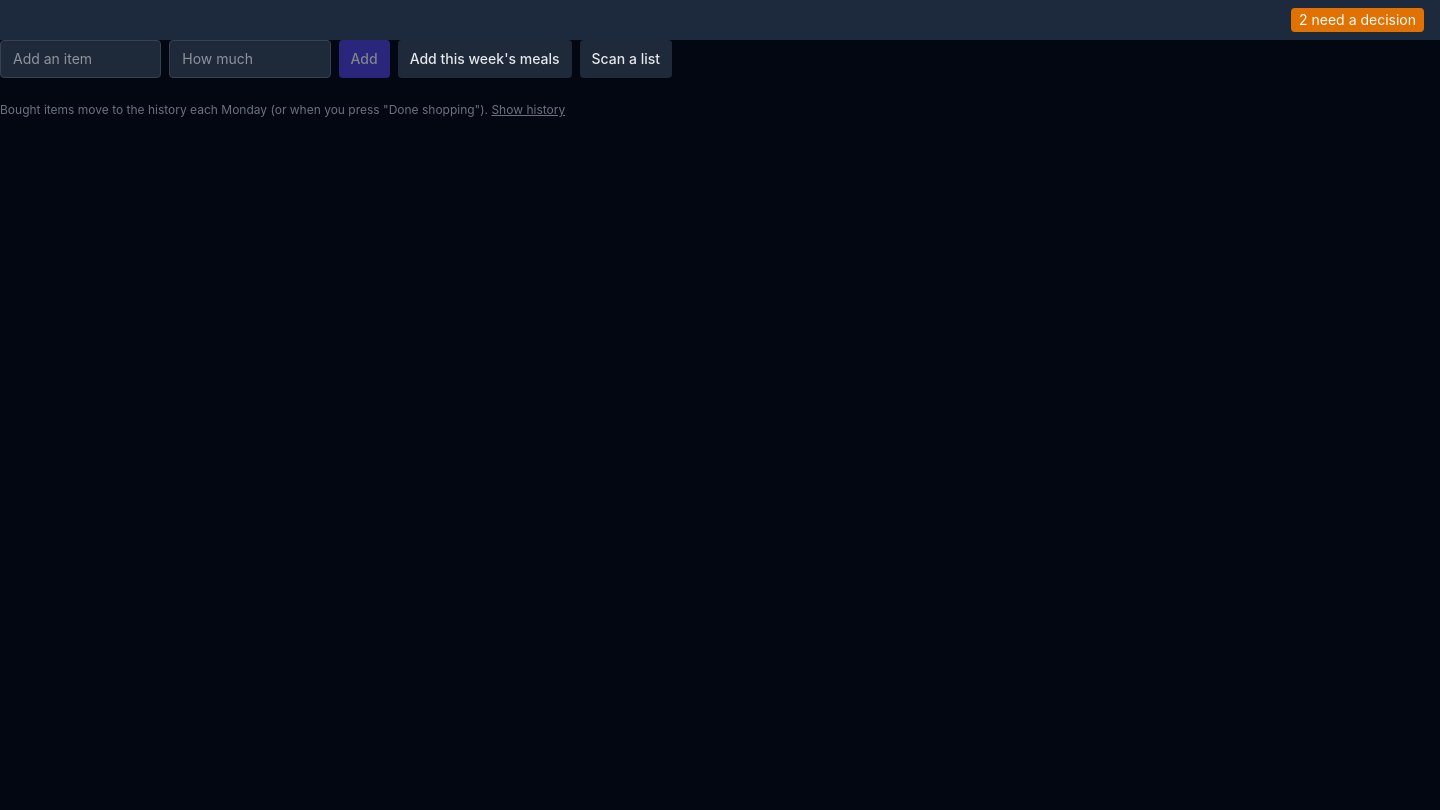
Test: offline banner, sync and conflicts › an already-done chore can only be dropped, and a refused write can be discarded
The width and height of the screenshot is (1440, 810).
Click the button "2 need a decision". click: (1358, 20)
box: [1291,8,1424,32]
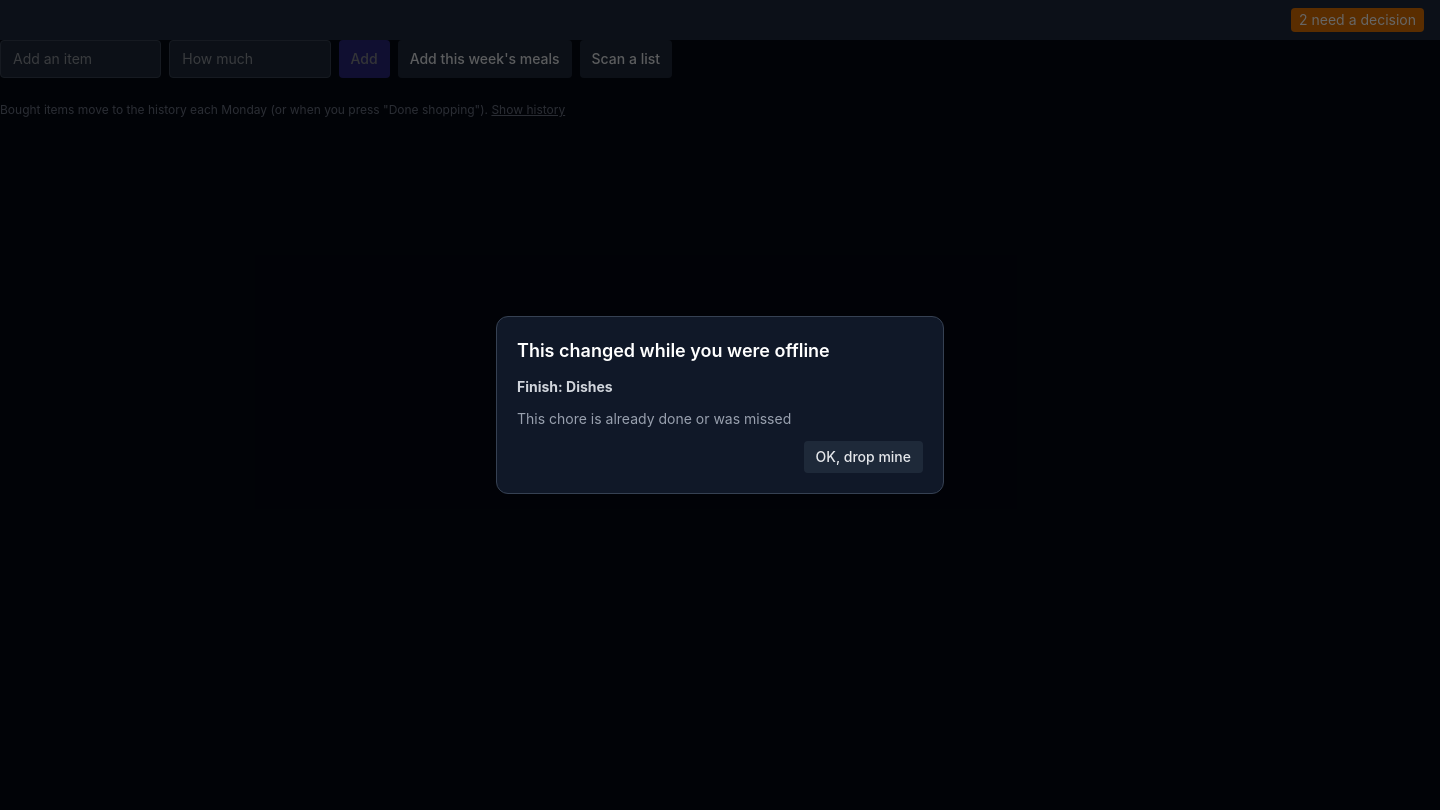
Click the button "OK, drop mine". click: (863, 457)
box: [804,441,923,473]
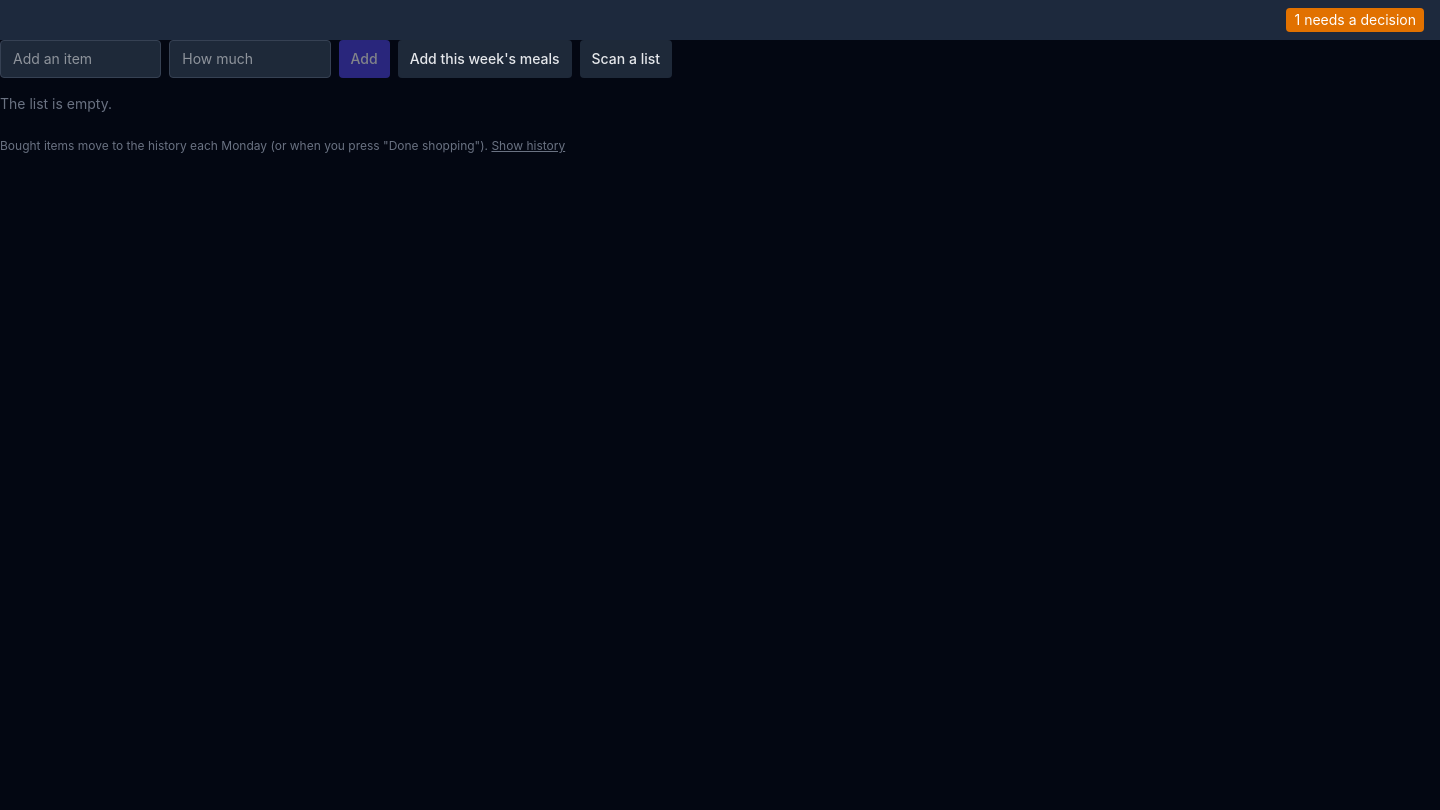
Click the button "1 needs a decision". click: (1355, 20)
box: [1286,8,1424,32]
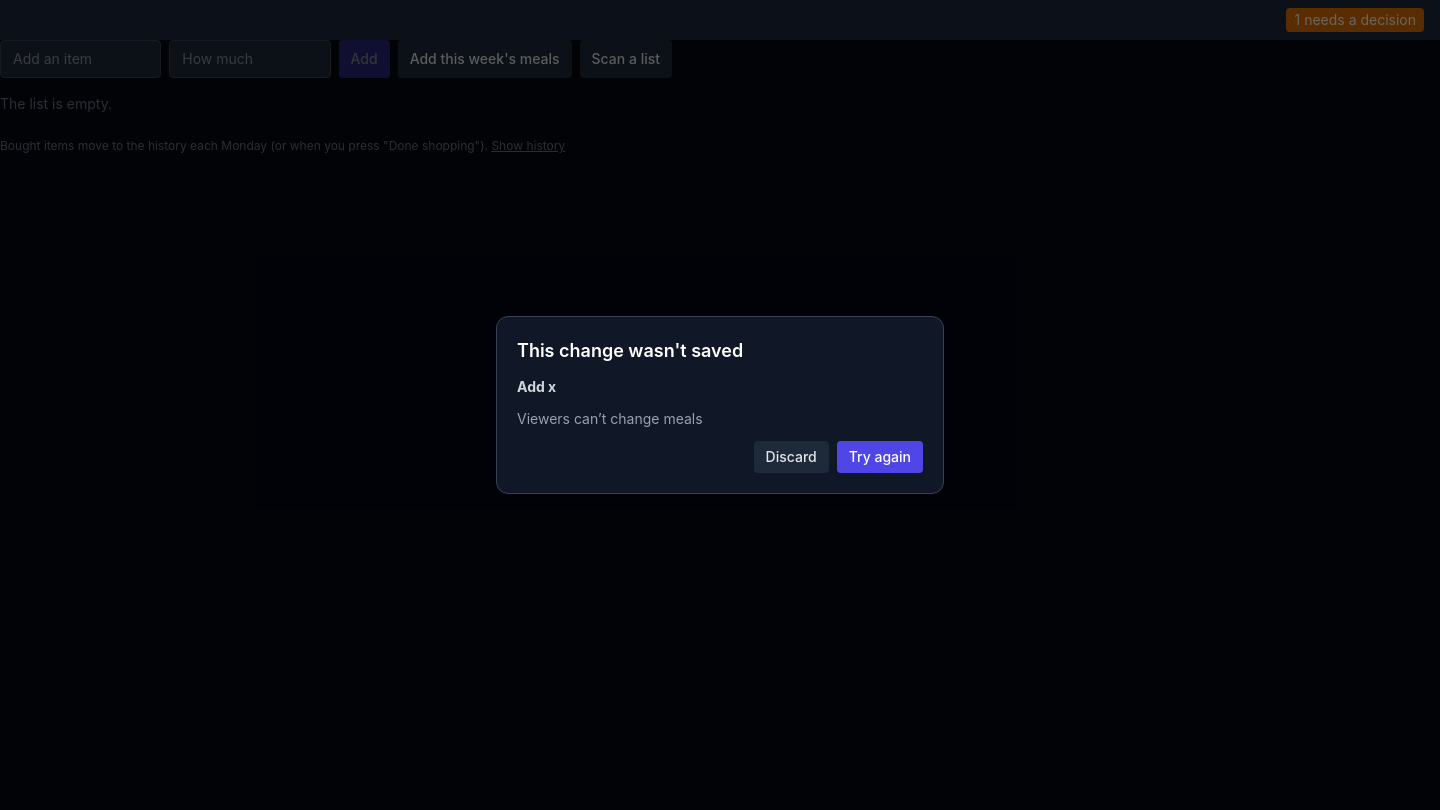
Now the dialog shows "Viewers can’t change meals", box [517,410,703,427]
Click the button "Discard". click: (791, 457)
box: [754,441,829,473]
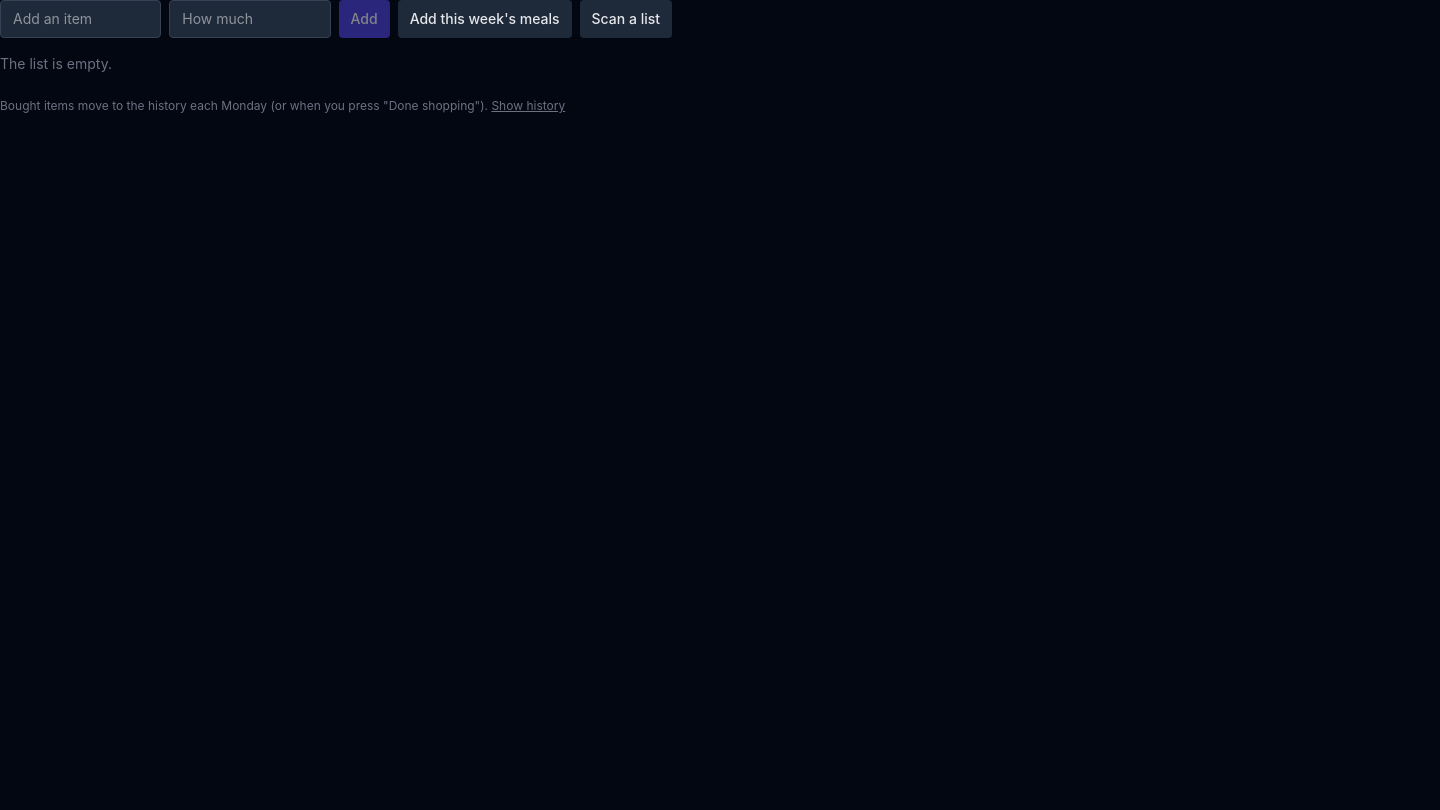
Now the message "1 needs a decision" is gone
